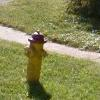Hydrant: (20, 26, 57, 89)
